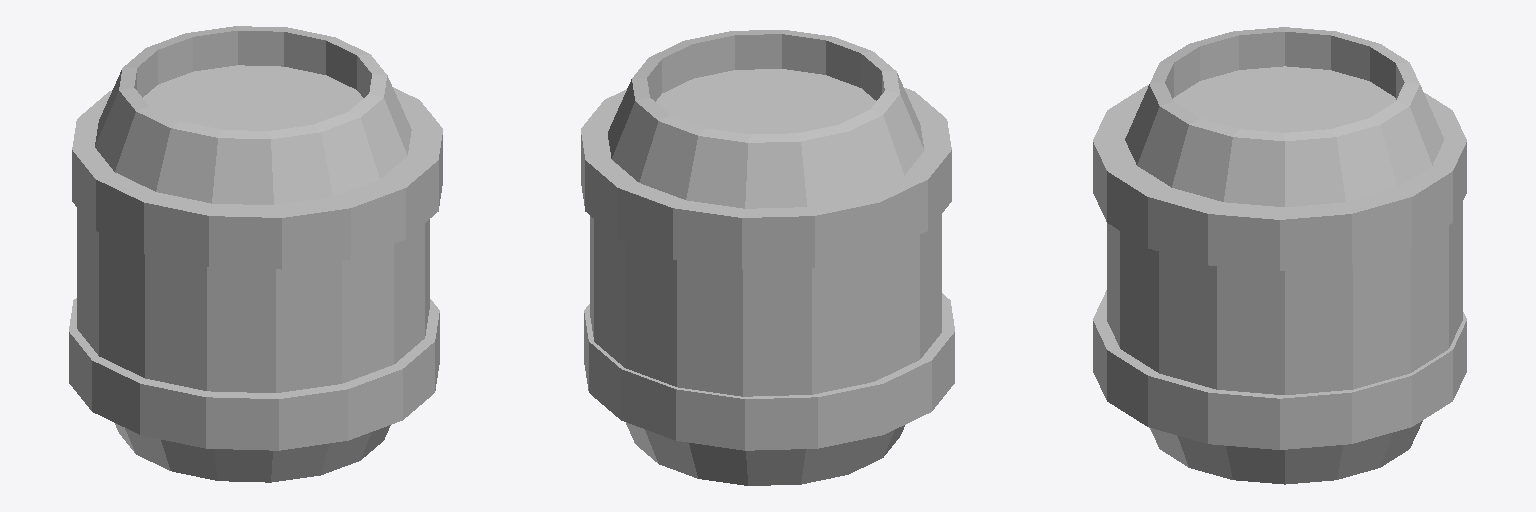
Rendered from newobj.obj.
The picture shows the model from 3 angles: view 1: azimuth 30°, elevation 25°; view 2: azimuth 150°, elevation 25°; view 3: azimuth 270°, elevation 25°; orthographic projection.
Parts seen in each view (by area): view 1: Cylinder.002; view 2: Cylinder.002; view 3: Cylinder.002.
Boxes of the visible parts, x1,y1,x2,y2 form: Cylinder.002: [69, 26, 442, 482]; Cylinder.002: [581, 30, 954, 485]; Cylinder.002: [1093, 27, 1466, 484].
Size of the model in its own units: 3.44 by 3.48 by 3.4.